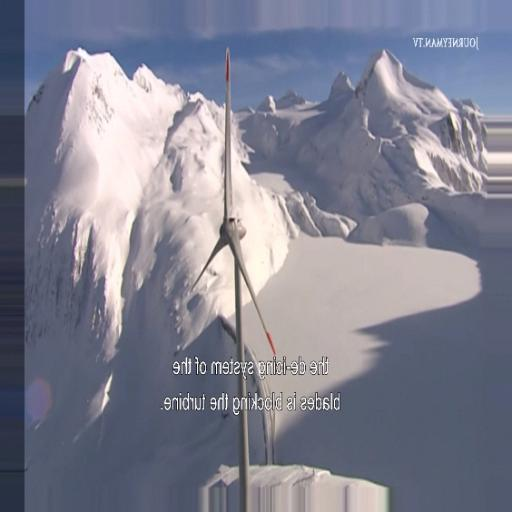wind turbine: (184, 46, 277, 470)
